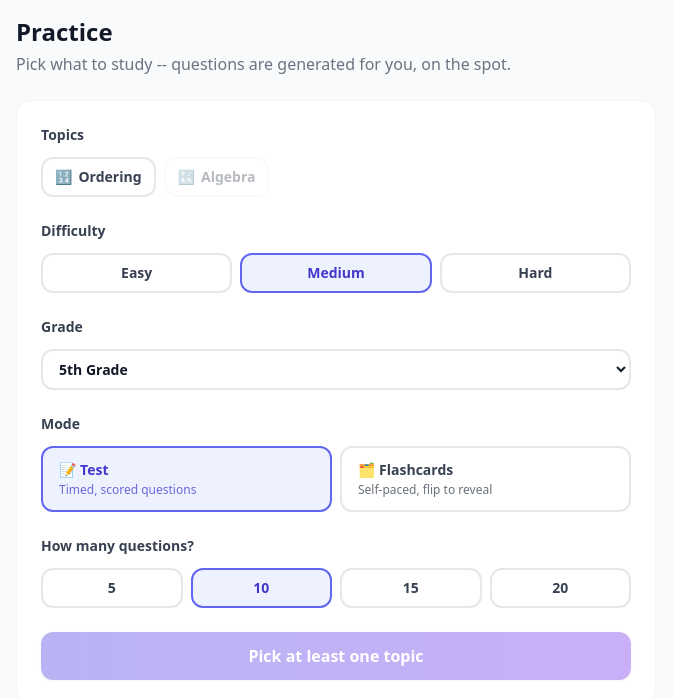
carries the picked question count from setup through to the test
Click the button "🔢 ordering". click: (98,177)
box: [41, 157, 156, 197]
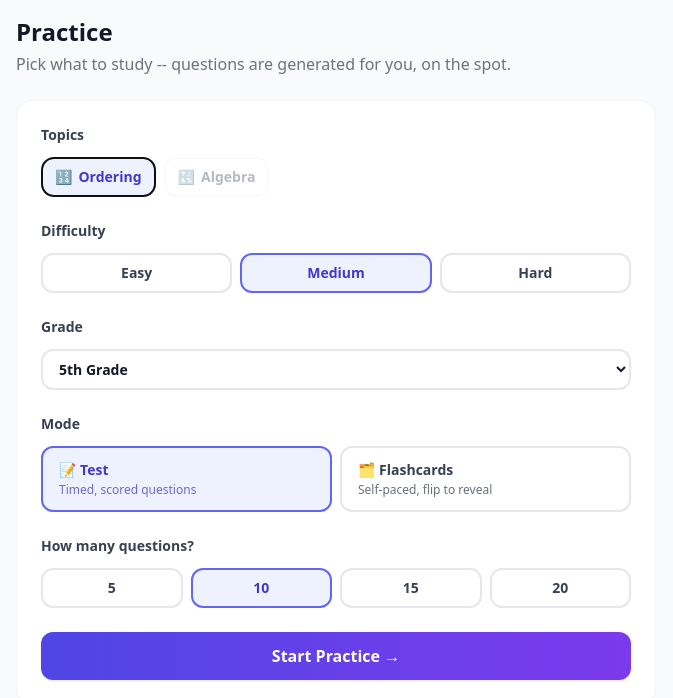
Click the button named "15 questions". click: (411,588)
box: [340, 568, 482, 608]
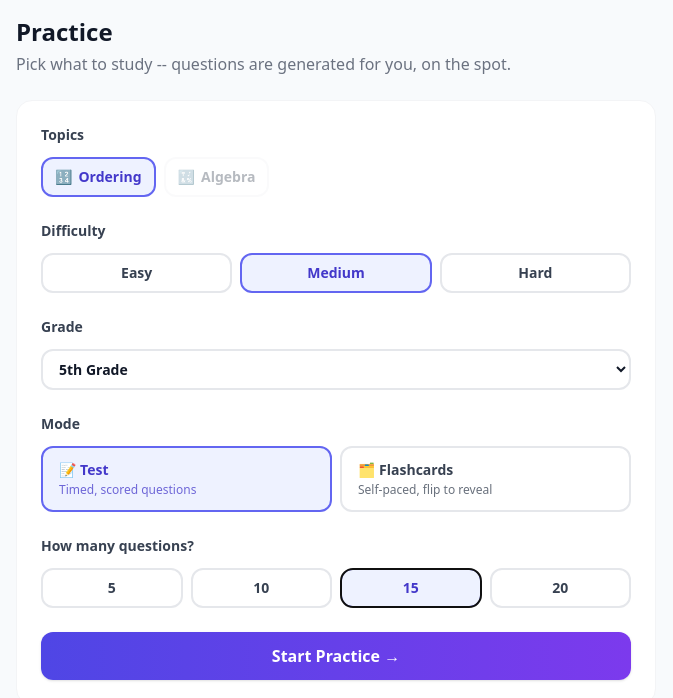
Click the button "Start Practice →". click: (336,656)
box: [41, 632, 631, 680]
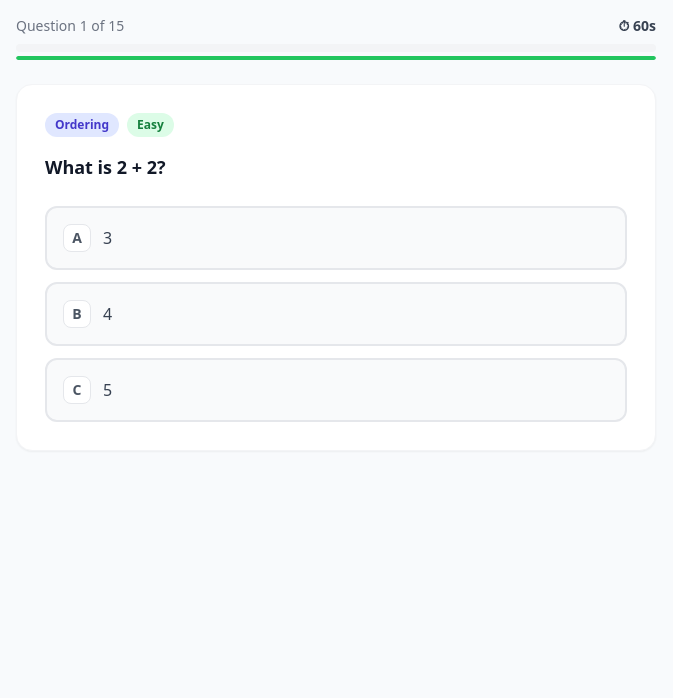
Now the text "Question 1 of 15" is shown, box [16, 16, 124, 36]
